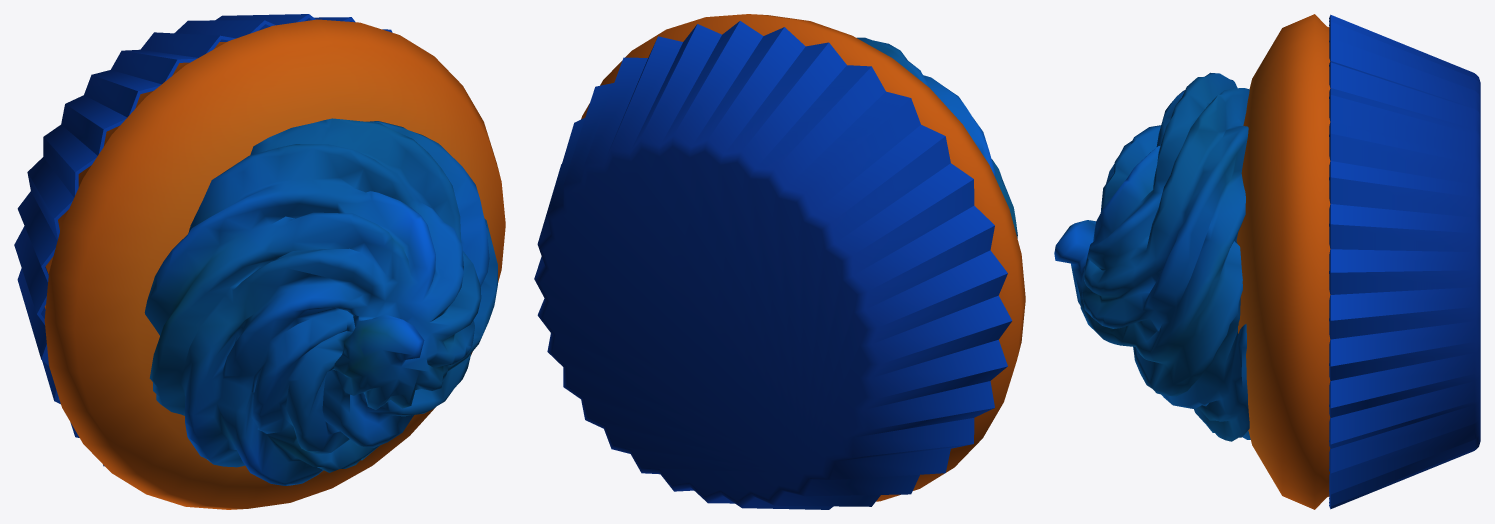
The model's file is Cupcake Tray Sort - Cake 6.fbx.
3 views of the same model, side by side, from view 1: azimuth 30°, elevation 25°; view 2: azimuth 150°, elevation 25°; view 3: azimuth 270°, elevation 25° (orthographic). The views are drawn at different scales.
Visible parts, largest first — view 1: 6. cake blue; view 2: 6. cake blue; view 3: 6. cake blue.
Part boxes in pixels (x1,y1,x2,y2): 6. cake blue: (14, 14, 505, 509); 6. cake blue: (534, 14, 1025, 509); 6. cake blue: (1054, 14, 1480, 509).
Size of the model in its own units: 0.1375 by 0.1375 by 0.1181.
